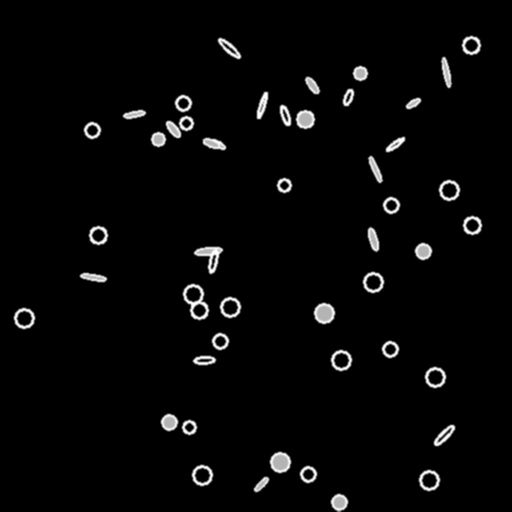pseudomonas: (217, 37, 241, 59), (433, 424, 455, 446), (367, 156, 383, 182), (255, 91, 269, 119), (164, 119, 182, 139), (304, 75, 320, 95), (385, 136, 405, 152), (278, 104, 292, 126), (367, 227, 379, 251), (253, 475, 269, 493), (441, 58, 451, 86), (208, 249, 218, 273), (194, 247, 222, 255), (342, 88, 354, 106), (202, 137, 220, 149), (80, 273, 106, 281), (210, 138, 226, 150), (405, 97, 421, 109), (193, 356, 215, 364), (123, 110, 145, 118)
synechocystis: (315, 304, 333, 322), (193, 466, 211, 484), (420, 471, 438, 489), (364, 273, 382, 291), (271, 453, 289, 471), (221, 298, 239, 316), (184, 285, 202, 303), (426, 368, 444, 386), (332, 351, 350, 369), (440, 181, 458, 199), (15, 309, 33, 327), (90, 227, 106, 243), (191, 302, 207, 318), (464, 217, 480, 233), (297, 111, 313, 127), (463, 37, 479, 53), (162, 415, 176, 429), (416, 244, 430, 258), (176, 96, 190, 110), (213, 334, 227, 348), (332, 495, 346, 509), (383, 342, 397, 356), (384, 198, 398, 212), (85, 123, 99, 137), (301, 467, 315, 481), (183, 421, 195, 433), (152, 133, 164, 145), (180, 117, 192, 129), (278, 179, 290, 191), (354, 67, 366, 79)
